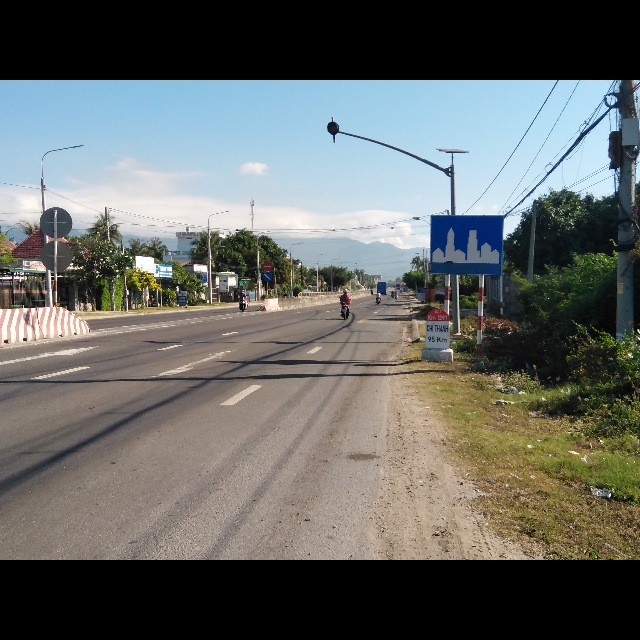Khu đông dân cư: (430, 214, 503, 277)
